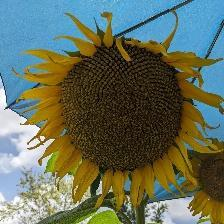sunflower: (12, 6, 224, 212)
